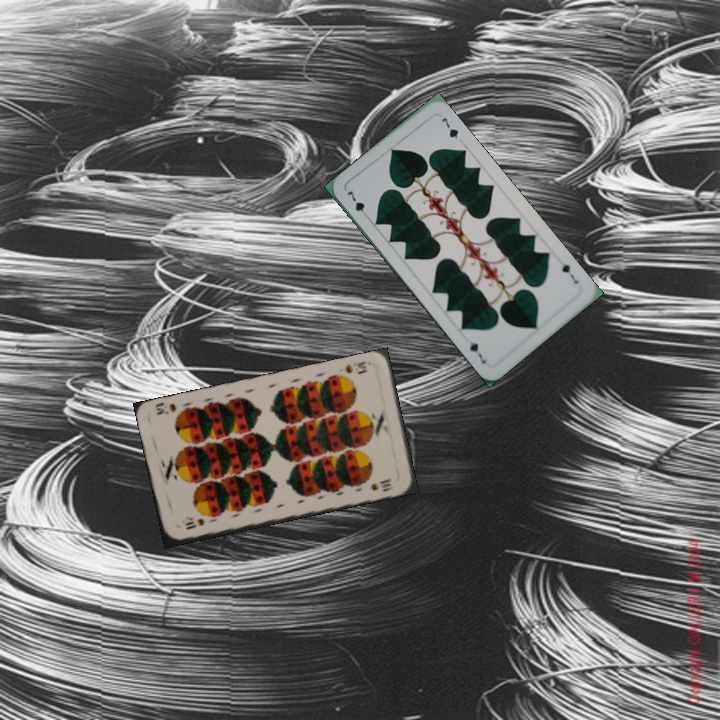G7: (343, 187, 372, 221), (558, 259, 583, 286)
S10: (341, 357, 369, 377), (181, 515, 208, 532)
